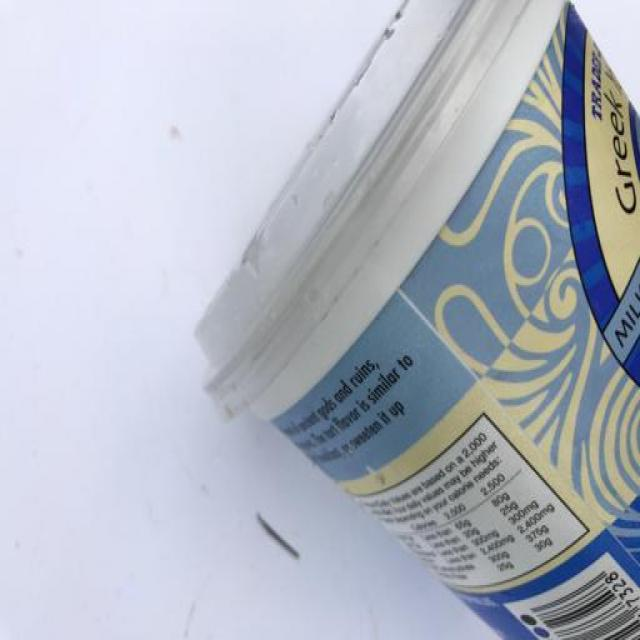plastic_bottle: (125, 1, 640, 638)
